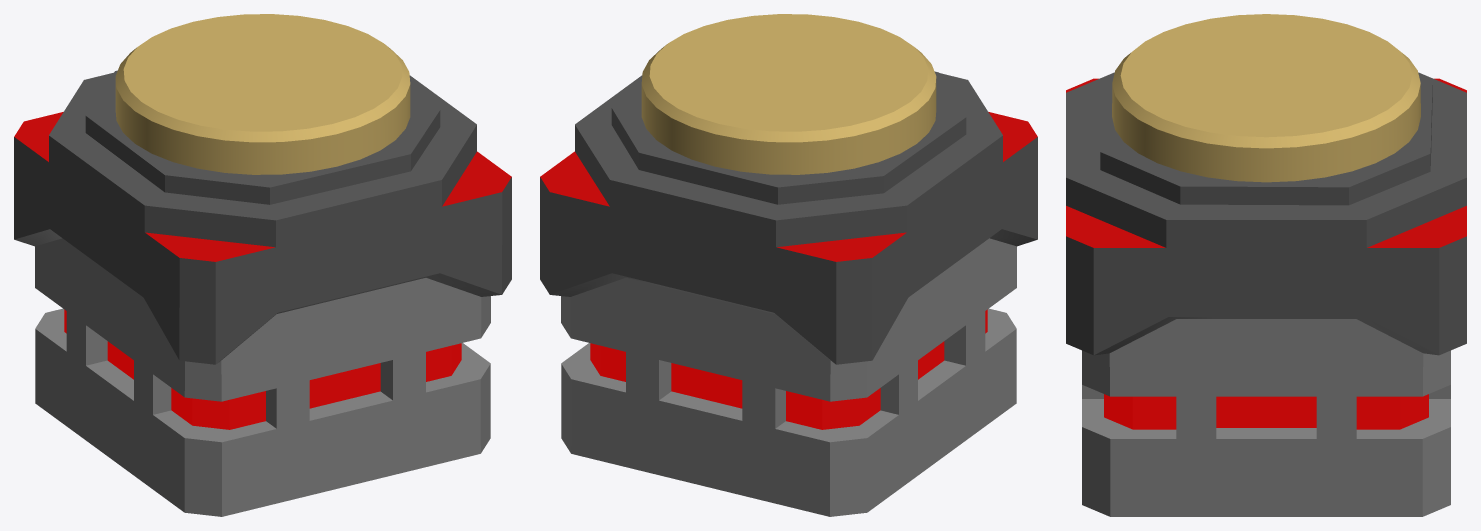
File: Bouton_Poussoir_D_sactiv_.fbx
The picture shows the model from 3 angles, left to right: view 1: azimuth 30°, elevation 25°; view 2: azimuth 150°, elevation 25°; view 3: azimuth 270°, elevation 25°; orthographic projection. The views are drawn at different scales.
Visible parts, largest first — view 1: Bouton Poussoir Désactivé; view 2: Bouton Poussoir Désactivé; view 3: Bouton Poussoir Désactivé.
Boxes of the visible parts, <box> form: Bouton Poussoir Désactivé: <box>14,14,511,516</box>; Bouton Poussoir Désactivé: <box>540,14,1037,516</box>; Bouton Poussoir Désactivé: <box>1066,14,1466,516</box>.
Size of the model in its own units: 100 by 100 by 100.
